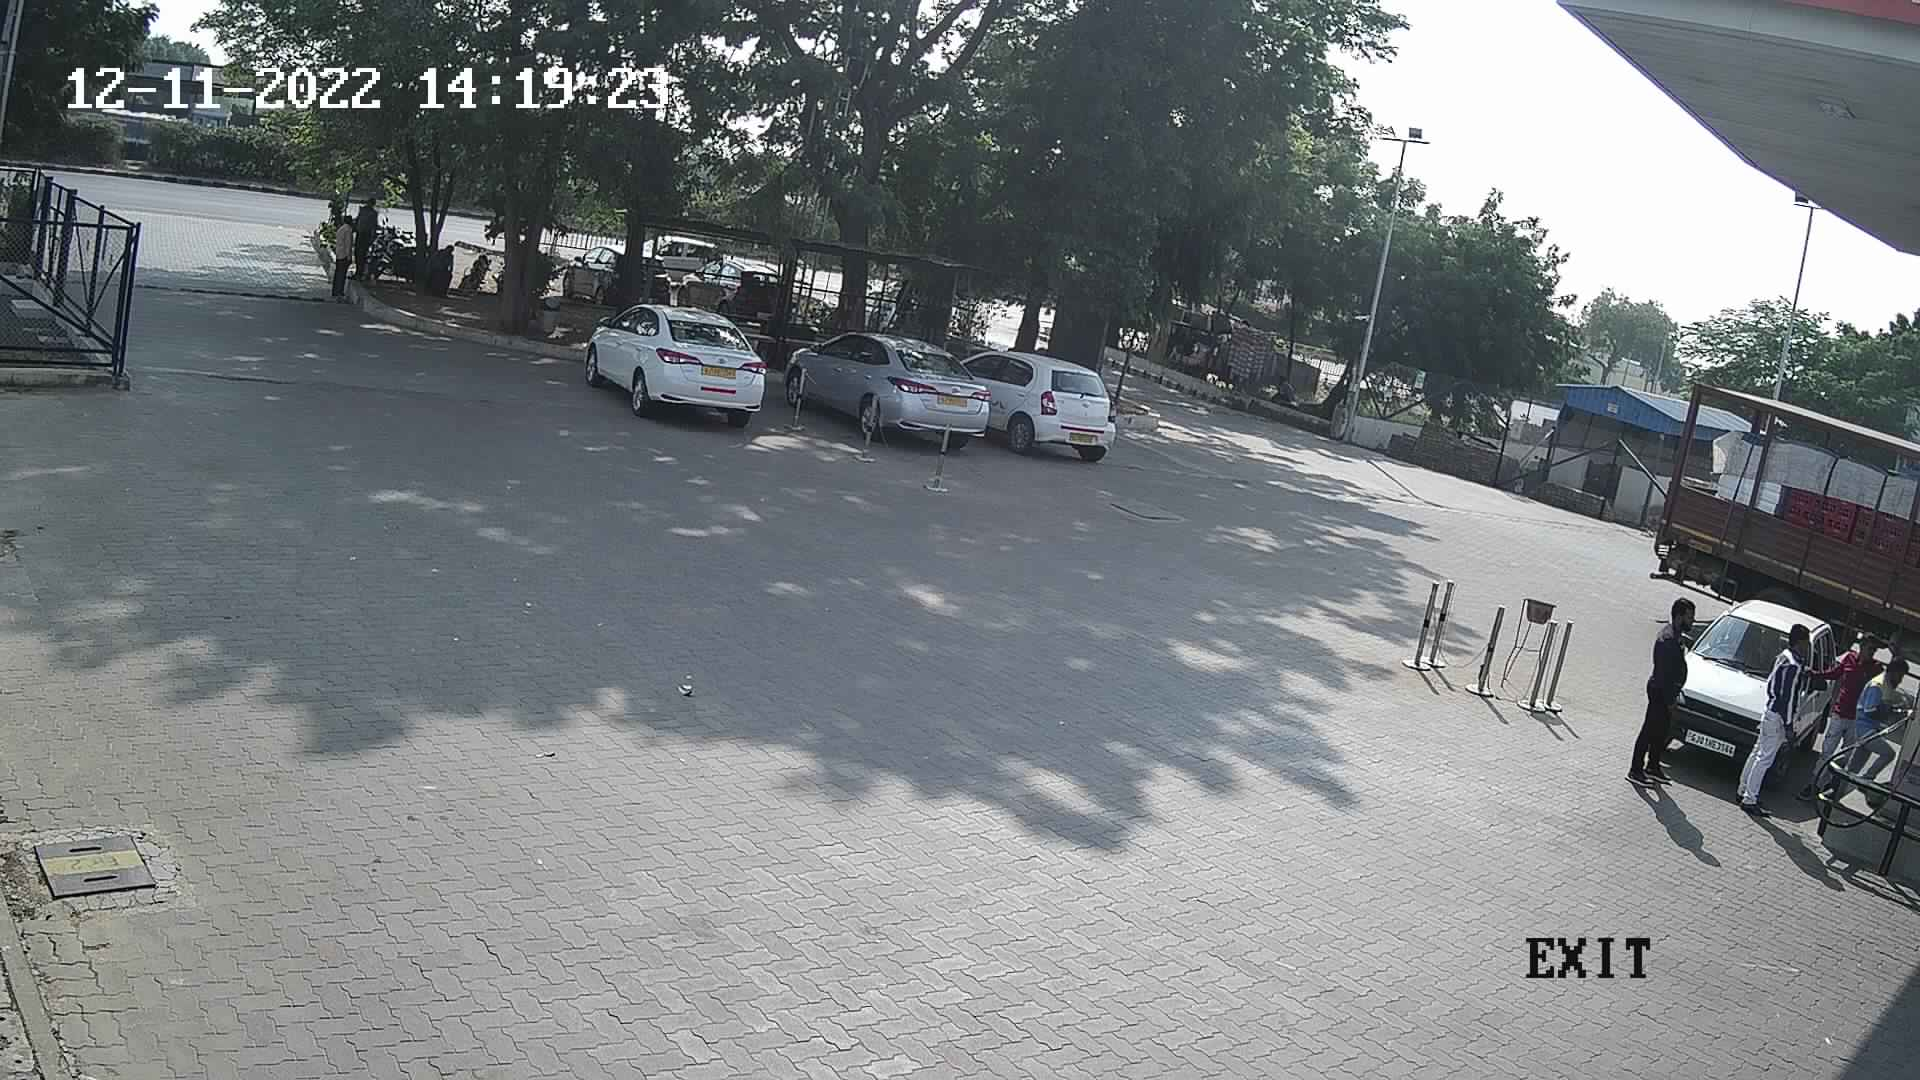Car: (1627, 568, 1874, 802), (786, 315, 1007, 454), (575, 286, 779, 427), (926, 330, 1122, 462), (673, 240, 782, 323), (641, 214, 727, 287), (558, 237, 636, 311)
HMV: (1639, 373, 1917, 680)
Others: (1826, 645, 1917, 782)
